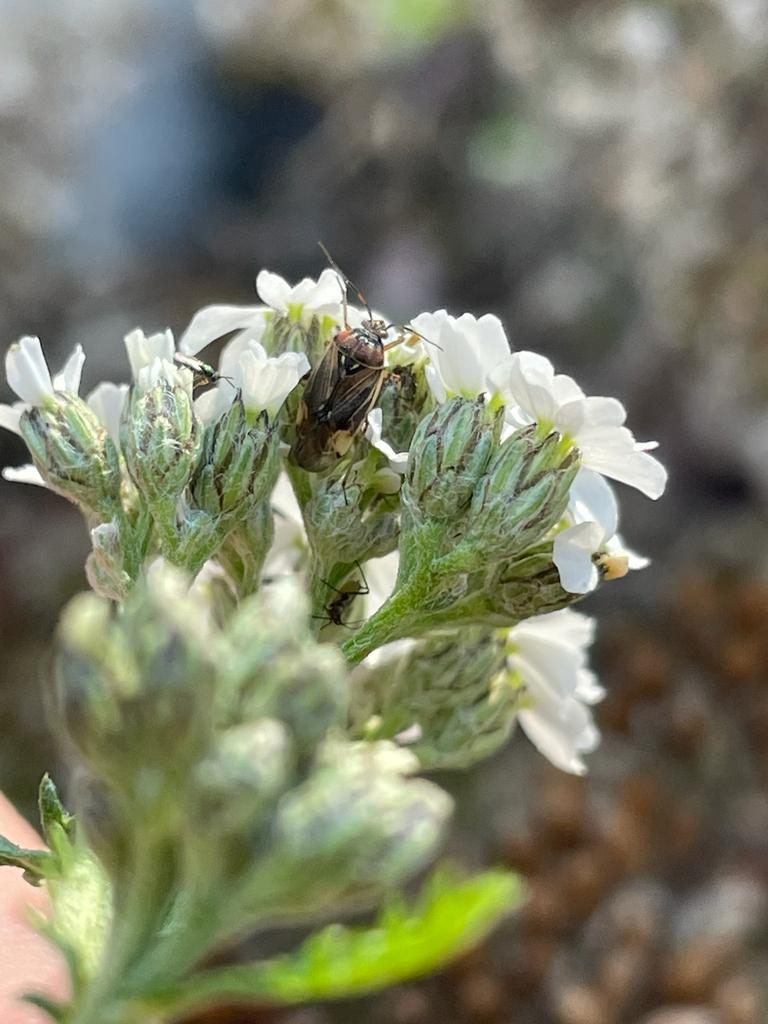plant_bugs: (249, 224, 458, 502)
